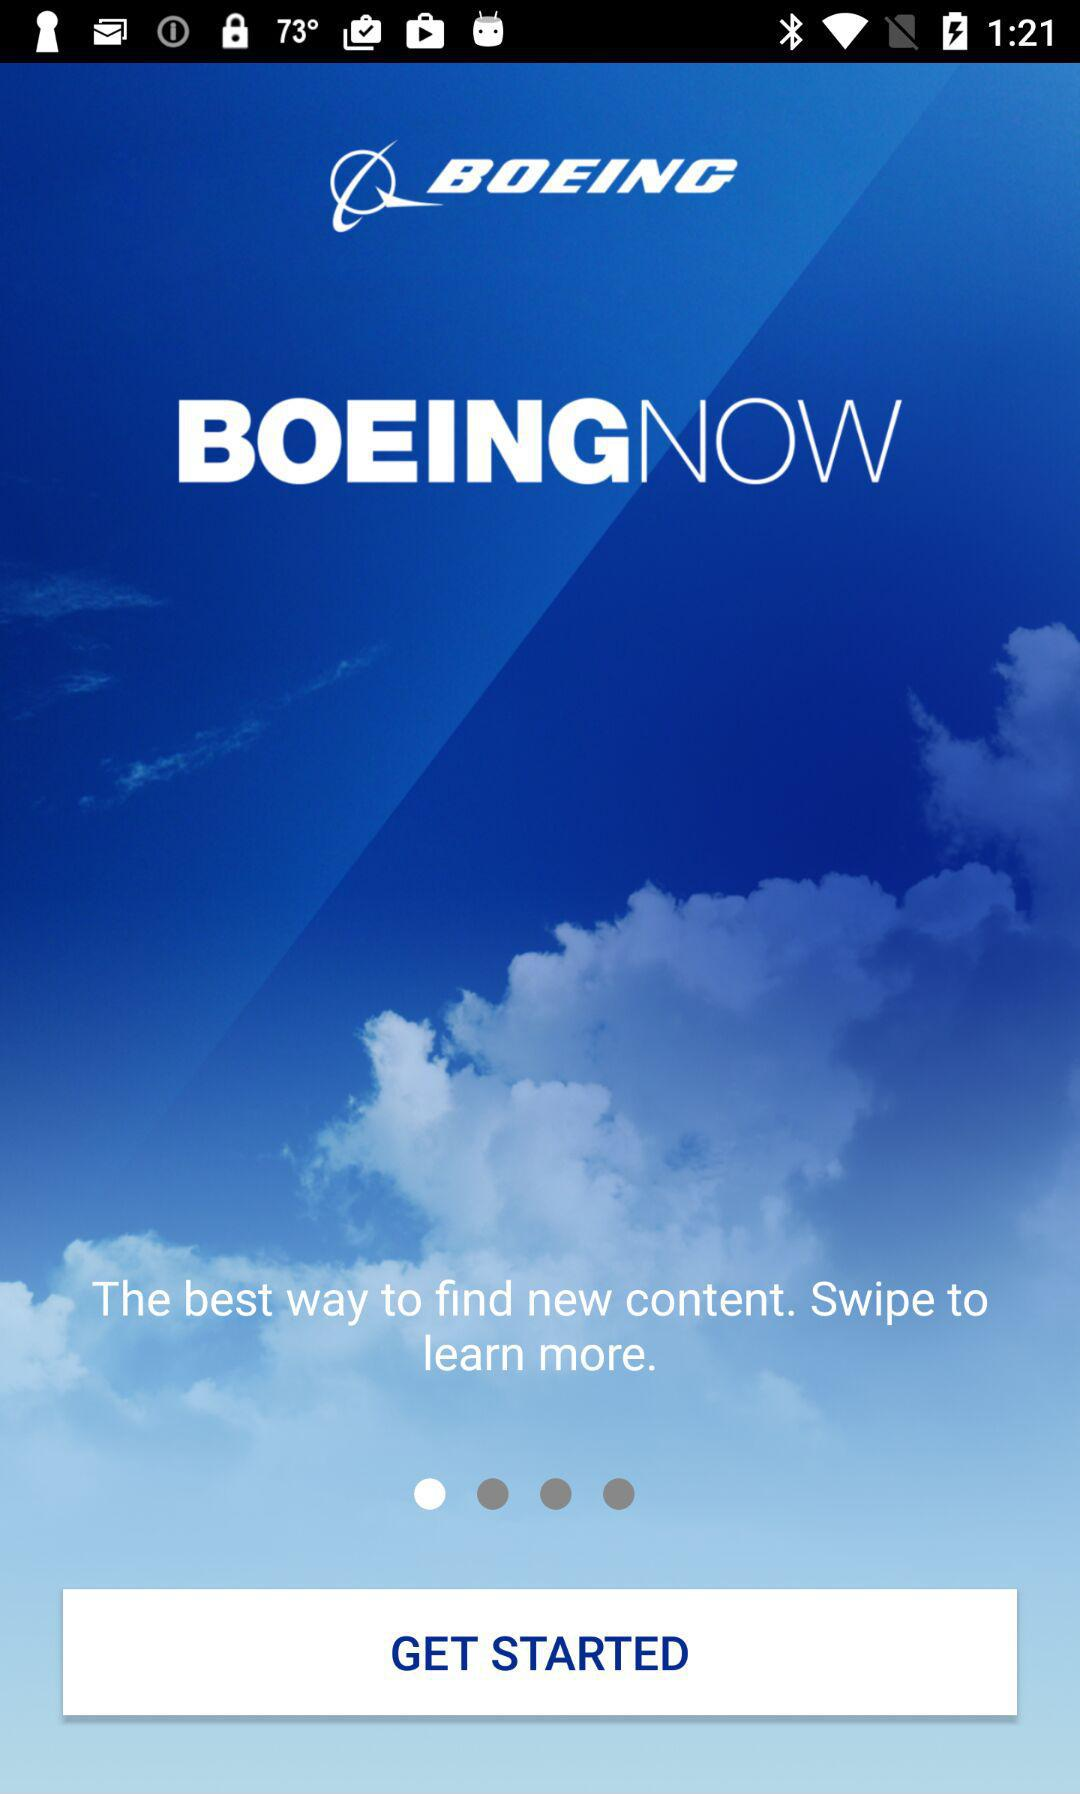BackgroundImage: (1, 64, 1080, 1794)
Image: (178, 397, 903, 484), (325, 136, 737, 229)
PageIndicator: (410, 1474, 638, 1513)
Text: (90, 1276, 990, 1372)
TextButton: (63, 1588, 1019, 1717)
UpperTaskBar: (1, 1, 1080, 64)
